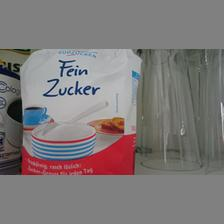Zucker: (18, 47, 142, 173)
